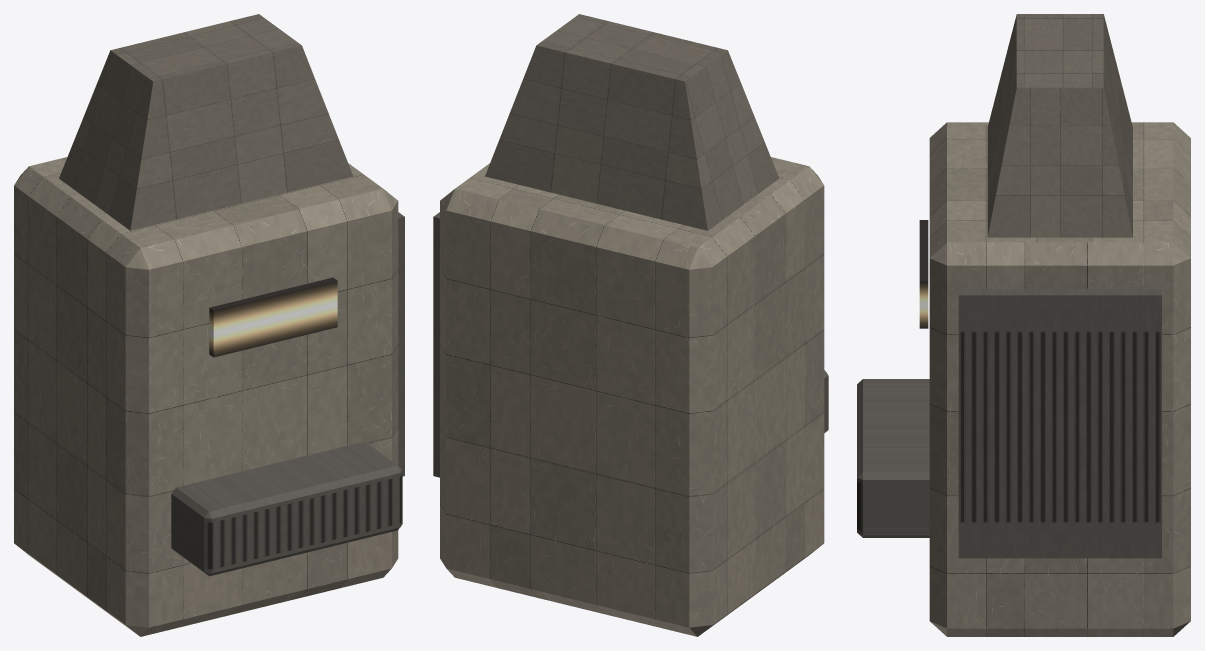
Rendered from prop_ammo_printer.obj.
The picture shows the model from 3 angles, left to right: view 1: azimuth 30°, elevation 25°; view 2: azimuth 150°, elevation 25°; view 3: azimuth 270°, elevation 25°; orthographic projection.
Visible parts, largest first — view 1: prop_ammo_printer; view 2: prop_ammo_printer; view 3: prop_ammo_printer.
Boxes of the visible parts, box(x1,y1,x2,y2) form: prop_ammo_printer: box(14, 14, 404, 636); prop_ammo_printer: box(433, 14, 828, 636); prop_ammo_printer: box(857, 14, 1190, 636).
Bounding box in the file's own units: 1.15 × 2 × 1.15.
Materials: 1 (1 with a texture image).
